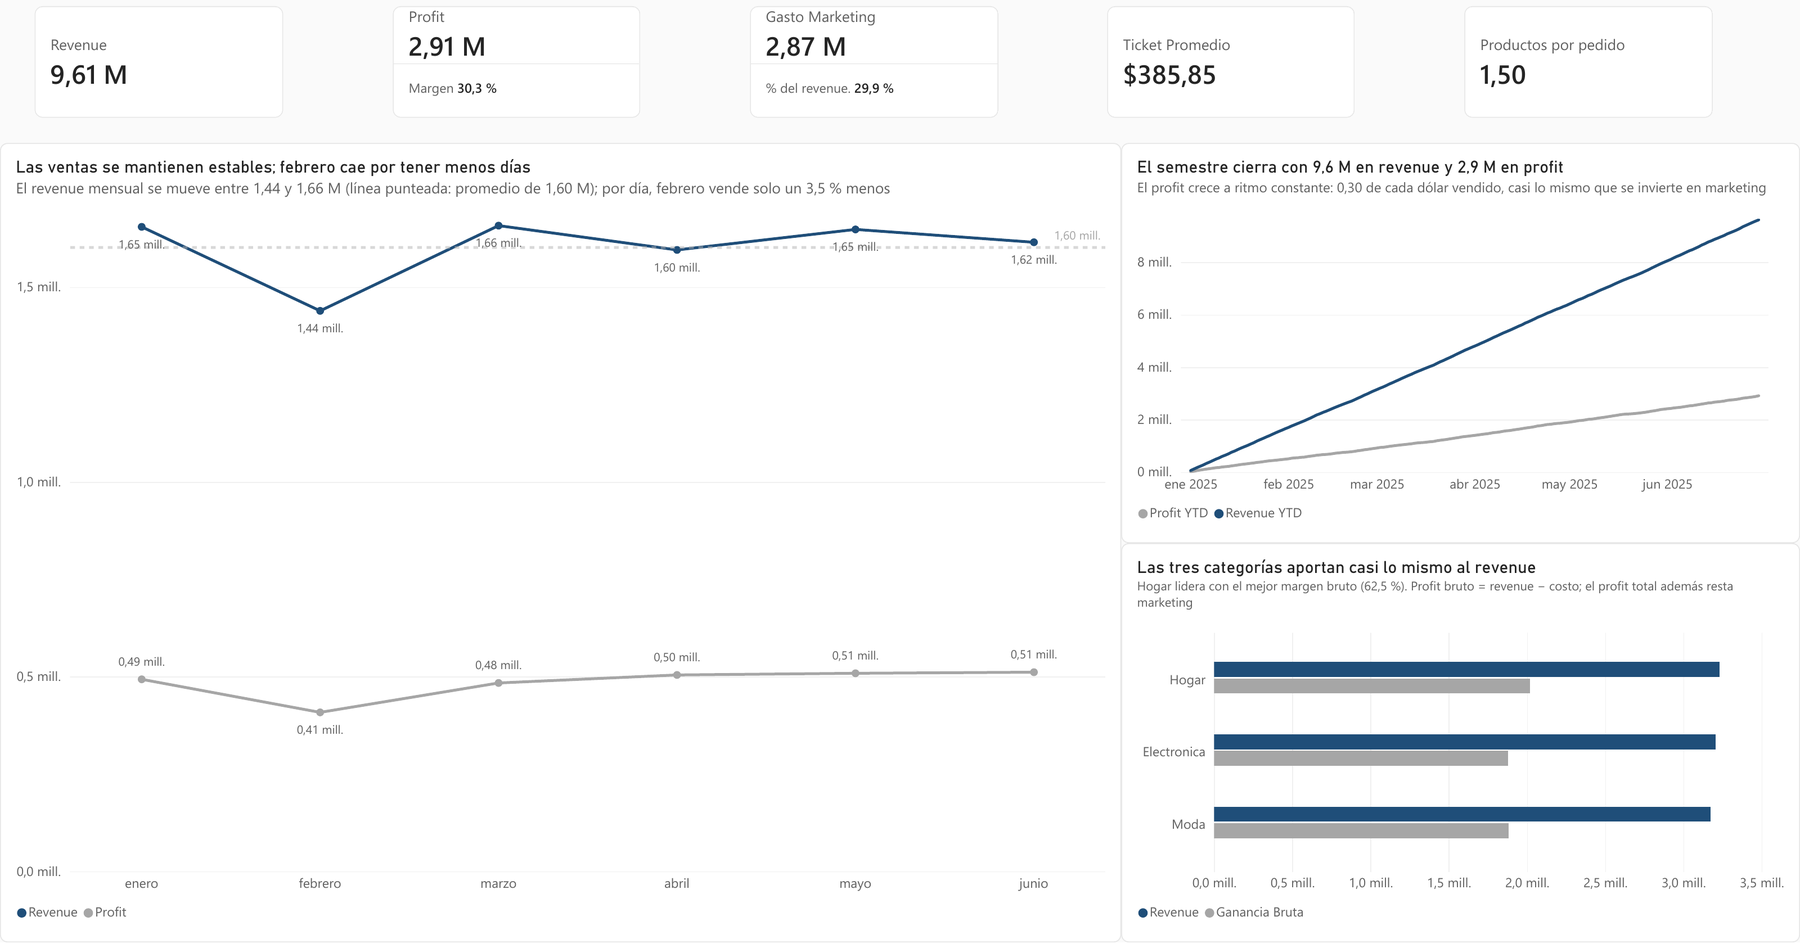

Layout of this report page (visuals, bound fields, positions):
{"tool":"powerbi","page":{"name":"Overview","canvas":[1920,1080],"ordinal":0},"visuals":[{"type":"textbox","box":[10.7,0,679,51.8],"z":0},{"type":"cardVisual","fields":{"Data":["orders_clean.Revenue Tarjeta"]},"box":[37.1,81.2,265.1,118.3],"z":1000},{"type":"cardVisual","fields":{"Data":["orders_clean.Profit Tarjeta"]},"box":[419,81.2,263.7,118.3],"z":2000},{"type":"cardVisual","fields":{"Data":["orders_clean.Gasto Marketing Tarjeta"]},"box":[799.5,81.2,265.1,118.3],"z":3000},{"type":"cardVisual","fields":{"Data":["orders_clean.Ticket Promedio"]},"box":[1181.5,81.2,263.7,118.3],"z":4000},{"type":"cardVisual","fields":{"Data":["orders_clean.Cantidad Promedio"]},"box":[1562,81.2,265.1,118.3],"z":5000},{"type":"lineChart","title":"Las ventas se mantienen estables; febrero cae por tener menos días","fields":{"Category":["Dim_Fecha.Mes"],"Y":["orders_clean.Revenue","orders_clean.Profit"]},"box":[0,226.6,1195.7,853.7],"z":6000},{"type":"lineChart","title":"El semestre cierra con 9,6 M en revenue y 2,9 M en profit","fields":{"Category":["Dim_Fecha.Date"],"Y":["orders_clean.Profit YTD","orders_clean.Revenue YTD"]},"box":[1195.7,226.6,724,427.6],"z":7000},{"type":"clusteredBarChart","title":"Las tres categorías aportan casi lo mismo al revenue","fields":{"Category":["catalog_clean.categoria_producto"],"Y":["orders_clean.Revenue","orders_clean.Ganancia Bruta"]},"box":[1195.7,654.2,724,426.1],"z":8000}]}

Visuals, with their boxes on the page's 1920x1080 design canvas (x1, y1, x2, y2). These are canvas units, not pixel positions in the 1800x948 screenshot, which may show the page scaled, cropped or inside an application window:
textbox: [11,0,690,52]
cardVisual - orders_clean.Revenue Tarjeta: [37,81,302,200]
cardVisual - orders_clean.Profit Tarjeta: [419,81,683,200]
cardVisual - orders_clean.Gasto Marketing Tarjeta: [800,81,1065,200]
cardVisual - orders_clean.Ticket Promedio: [1182,81,1445,200]
cardVisual - orders_clean.Cantidad Promedio: [1562,81,1827,200]
"Las ventas se mantienen estables; febrero cae por tener menos días" lineChart: [0,227,1196,1080]
"El semestre cierra con 9,6 M en revenue y 2,9 M en profit" lineChart: [1196,227,1920,654]
"Las tres categorías aportan casi lo mismo al revenue" clusteredBarChart: [1196,654,1920,1080]
